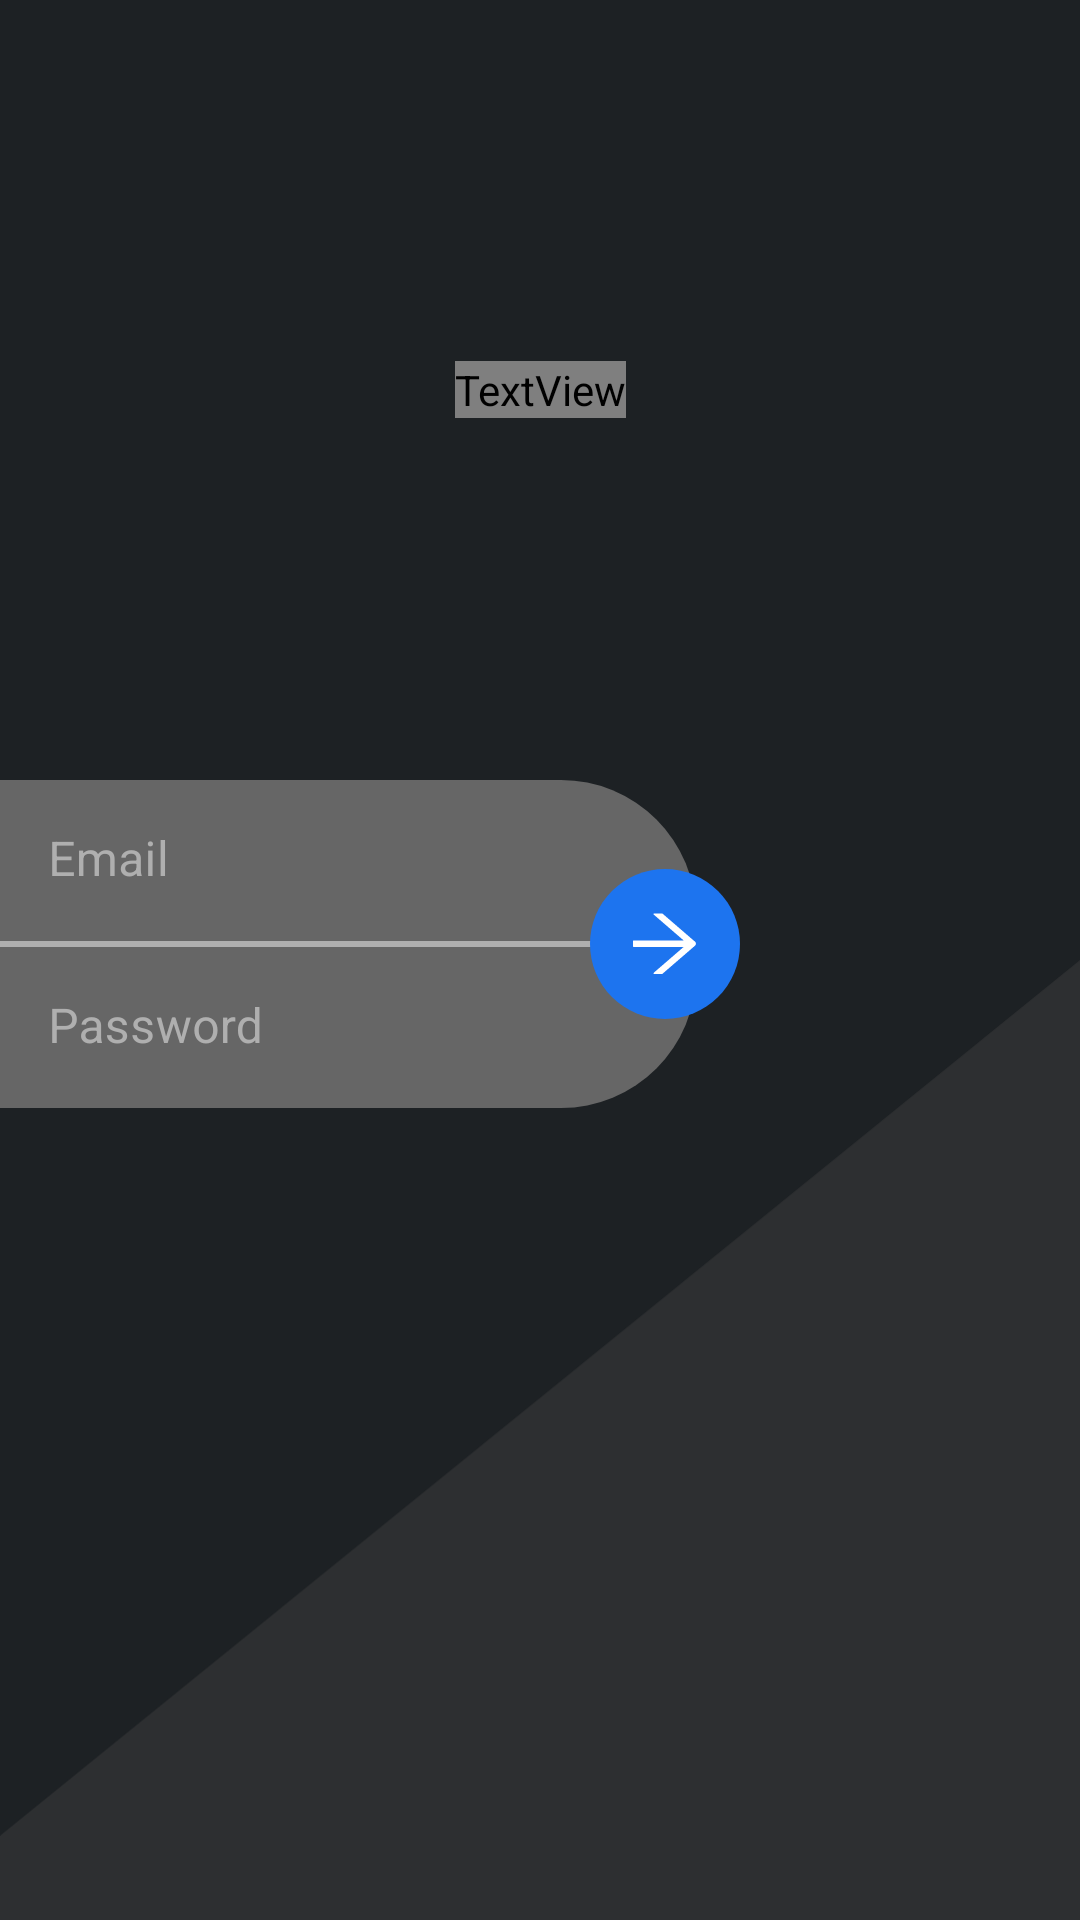

Where to tap for icons on this 1080w x 1920h app screen, as [x,y]:
Log in: [665,944]
